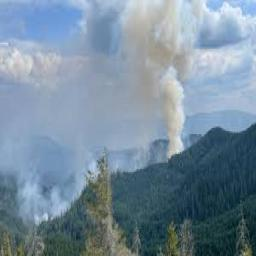Heavy smoke: (14, 2, 193, 231)
